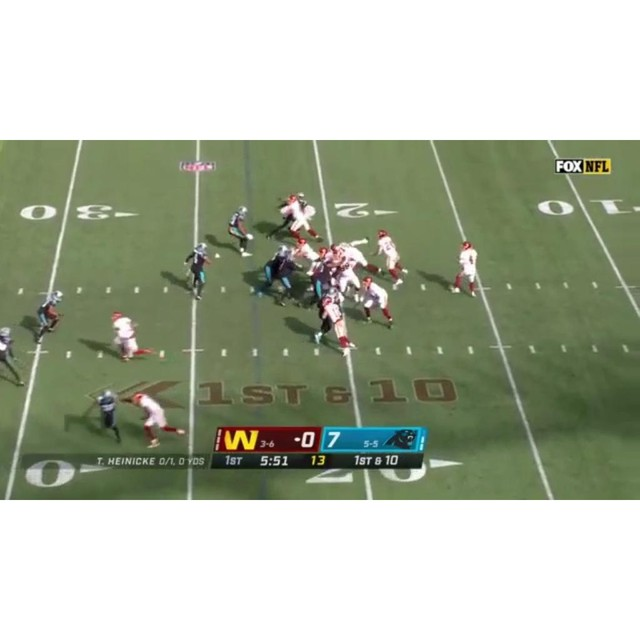american-football-player: (130, 392, 185, 450), (314, 296, 355, 357), (374, 229, 408, 289), (254, 245, 291, 298), (283, 194, 322, 243), (266, 194, 305, 242), (360, 276, 394, 329), (92, 389, 123, 444), (450, 241, 479, 297), (34, 290, 65, 342), (333, 254, 363, 304), (0, 327, 25, 387), (183, 242, 210, 297), (275, 254, 301, 306), (227, 206, 253, 256)
